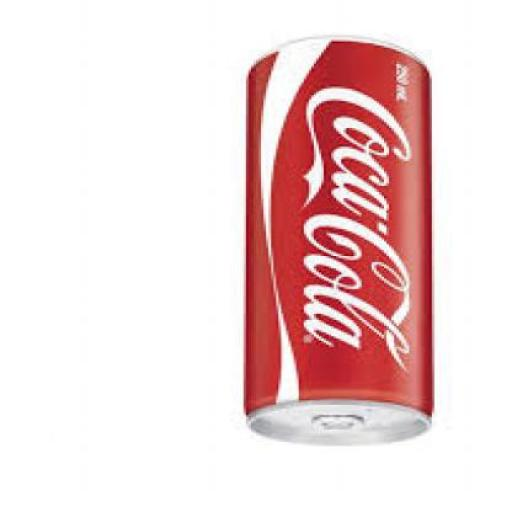metal: (244, 37, 437, 450)
